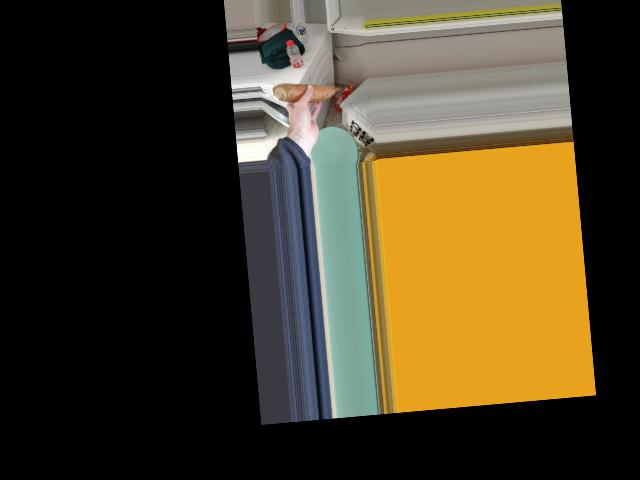sweet_potato: (281, 85, 335, 104)
